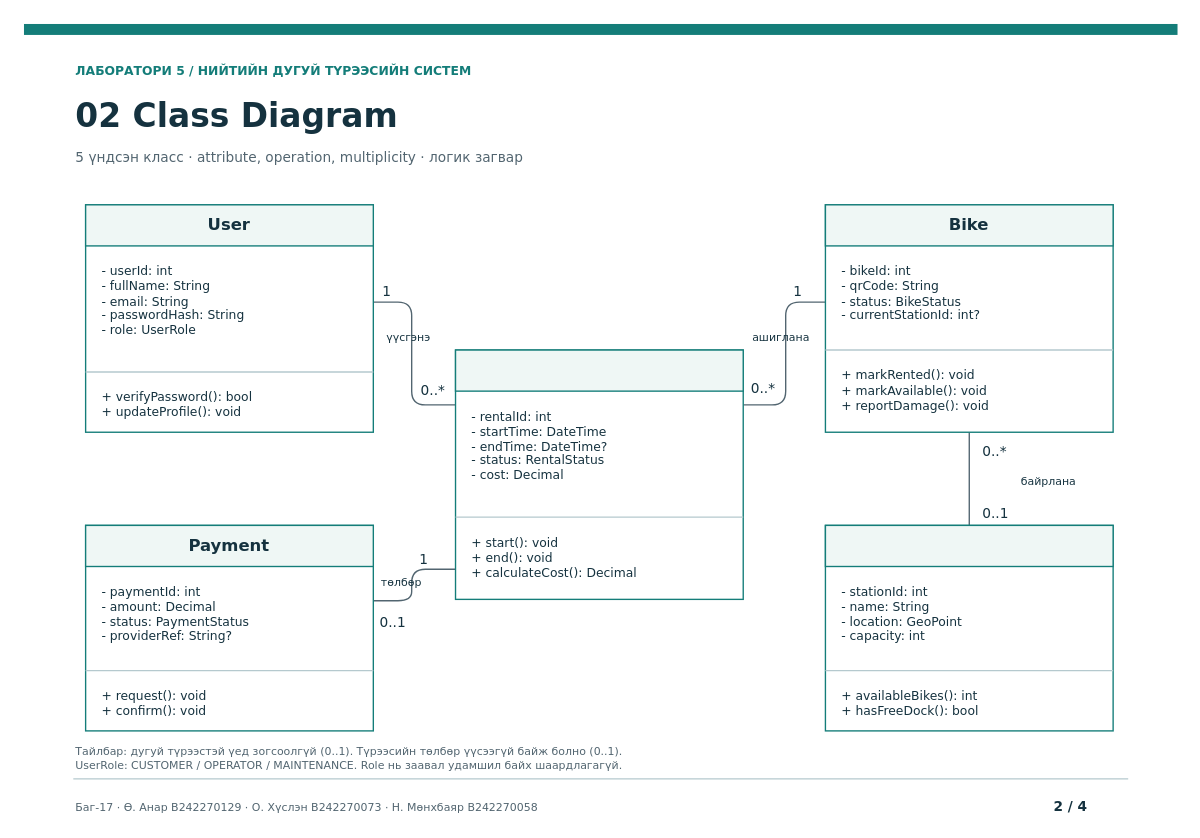
Some shapes in this 1200 by 838 pixel diagram are drawn without their labels. The centre of each missing label's shape, as x and y in pixels:
Rental: the point at 598,370
Station: the point at 968,545
